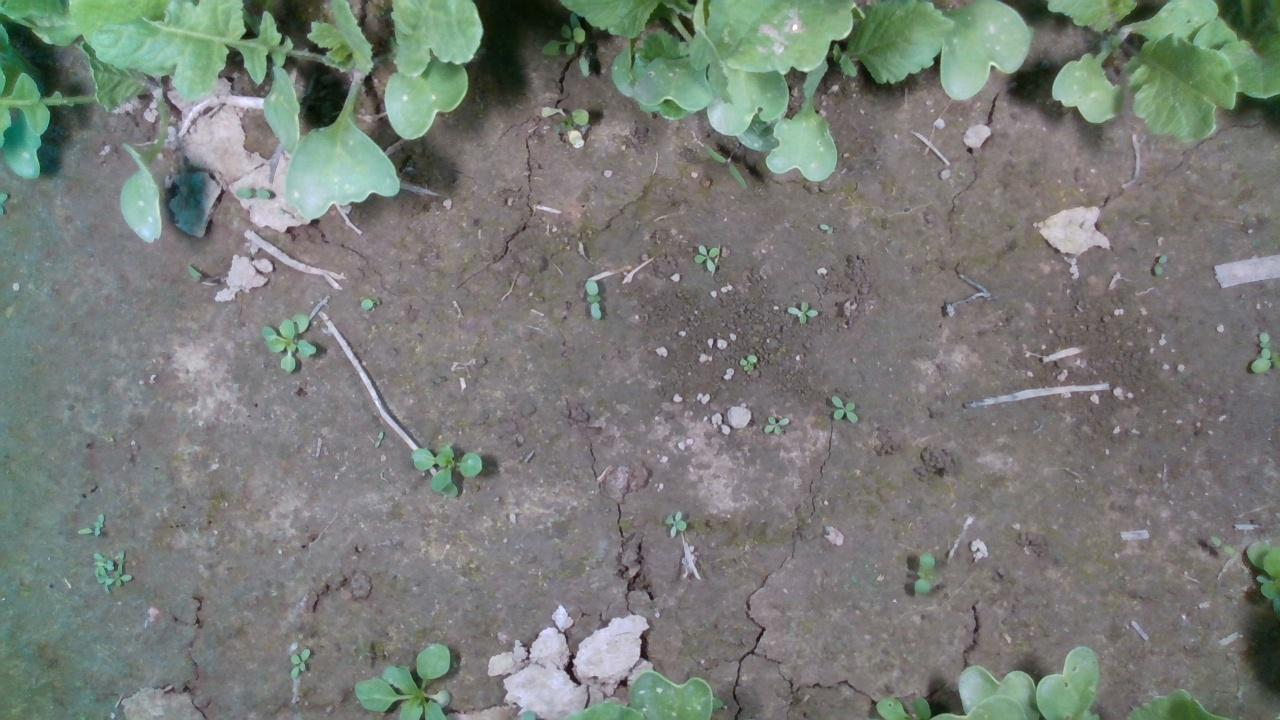weed: (911, 550, 935, 596), (828, 393, 859, 424), (692, 243, 719, 274), (786, 298, 816, 325), (662, 508, 687, 537), (287, 648, 311, 678), (760, 414, 790, 435)
